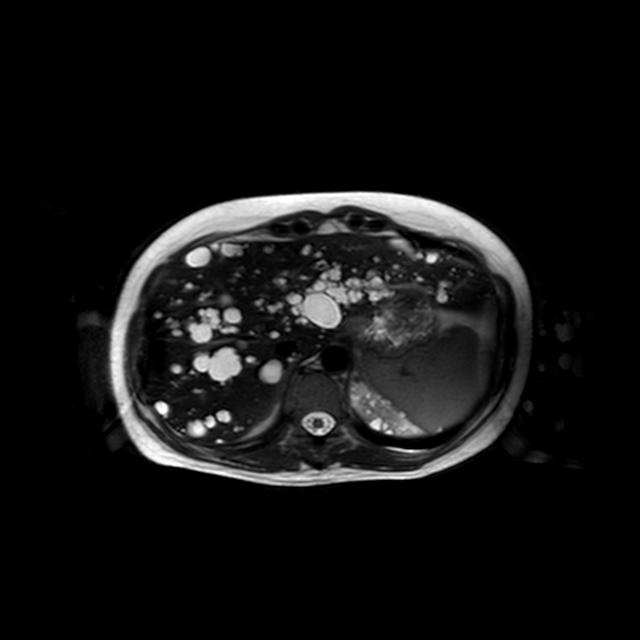sol: (349, 379, 426, 435)
